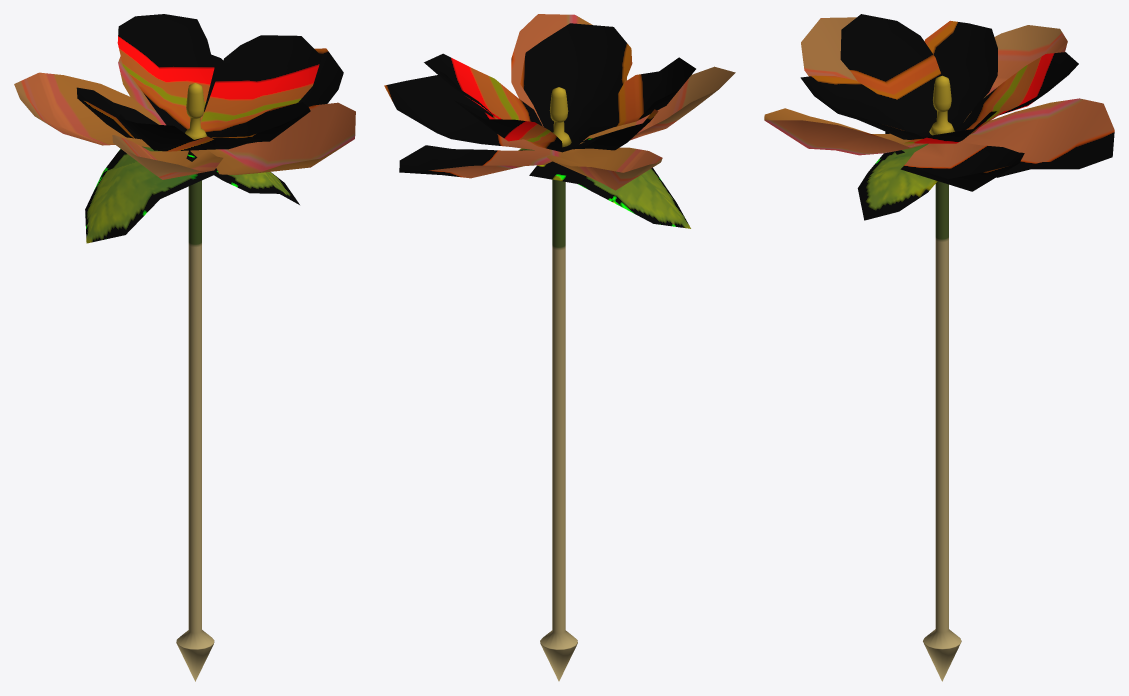
File: pi_lunchpick10_orange.gltf
3 views of the same model, side by side, from view 1: azimuth 30°, elevation 25°; view 2: azimuth 150°, elevation 25°; view 3: azimuth 270°, elevation 25° (orthographic).
Parts seen in each view (by area): view 1: pi_lunchpick10_orange; view 2: pi_lunchpick10_orange; view 3: pi_lunchpick10_orange.
Part boxes in pixels (box(x1,y1,x2,y2)): pi_lunchpick10_orange: box(14, 14, 355, 681); pi_lunchpick10_orange: box(384, 14, 735, 681); pi_lunchpick10_orange: box(764, 14, 1114, 681).
Bounding box in the file's own units: 0.0673 × 0.138 × 0.0704.
1 material, 1 textured.
